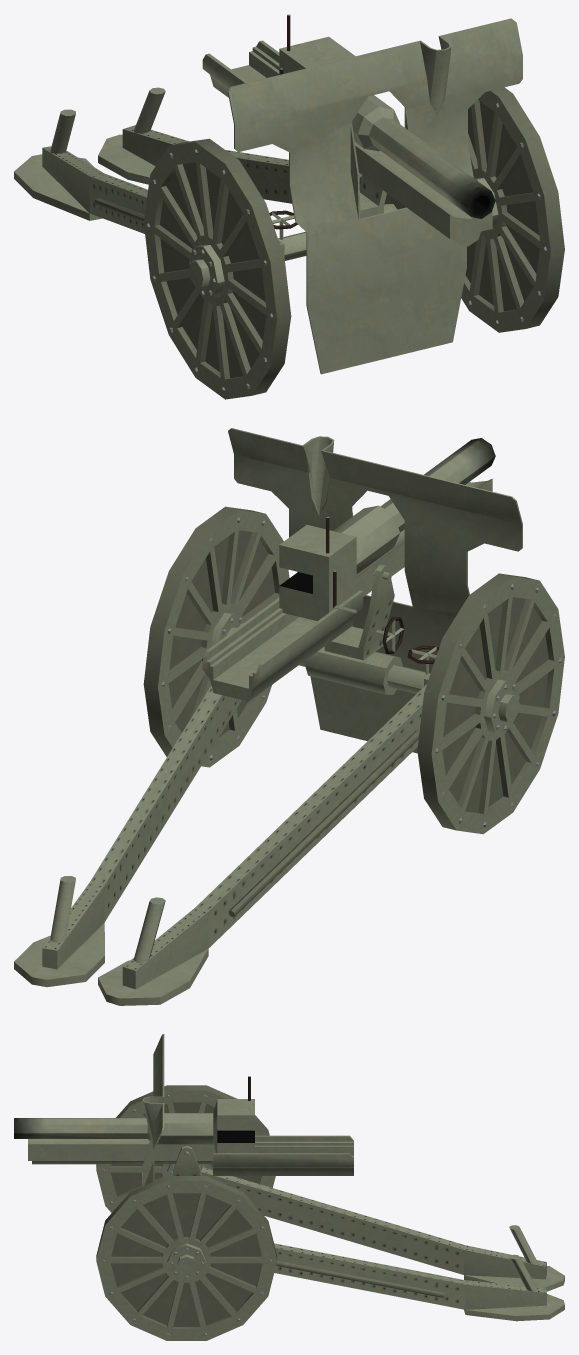
The model's file is FRA105mmMle1935B.dae.
3 renders of one model, top to bottom at view 1: azimuth 30°, elevation 25°; view 2: azimuth 150°, elevation 25°; view 3: azimuth 270°, elevation 25°, orthographic. The views are drawn at different scales.
Parts seen in each view (by area): view 1: carriage, wheel2, wheel1, barrel, trail2, sleeve, trail1, turret; view 2: carriage, wheel2, wheel1, trail2, trail1, barrel, sleeve, turret; view 3: wheel1, trail2, trail1, sleeve, barrel, wheel2, carriage, turret.
Part boxes in pixels (x1,y1,x2,y2): carriage: (228, 18, 522, 374); wheel2: (143, 138, 291, 399); wheel1: (461, 87, 564, 332); barrel: (279, 14, 495, 218); trail2: (14, 109, 147, 233); sleeve: (202, 40, 492, 246); trail1: (98, 87, 405, 209); turret: (359, 175, 386, 218); carriage: (228, 428, 522, 753); wheel2: (417, 573, 564, 834); wheel1: (143, 506, 289, 767); trail2: (98, 684, 426, 1005); trail1: (14, 627, 241, 987); barrel: (279, 438, 495, 621); sleeve: (202, 478, 492, 701); turret: (324, 565, 404, 660); wheel1: (96, 1176, 277, 1340); trail2: (200, 1167, 564, 1291); trail1: (274, 1243, 564, 1321); sleeve: (28, 1135, 353, 1175); barrel: (14, 1076, 254, 1153); wheel2: (96, 1085, 275, 1212); carriage: (142, 1034, 164, 1186); turret: (173, 1145, 200, 1175).
Bounding box in the file's own units: 15.03 × 33.4 × 14.36.
1 material, 1 textured.
